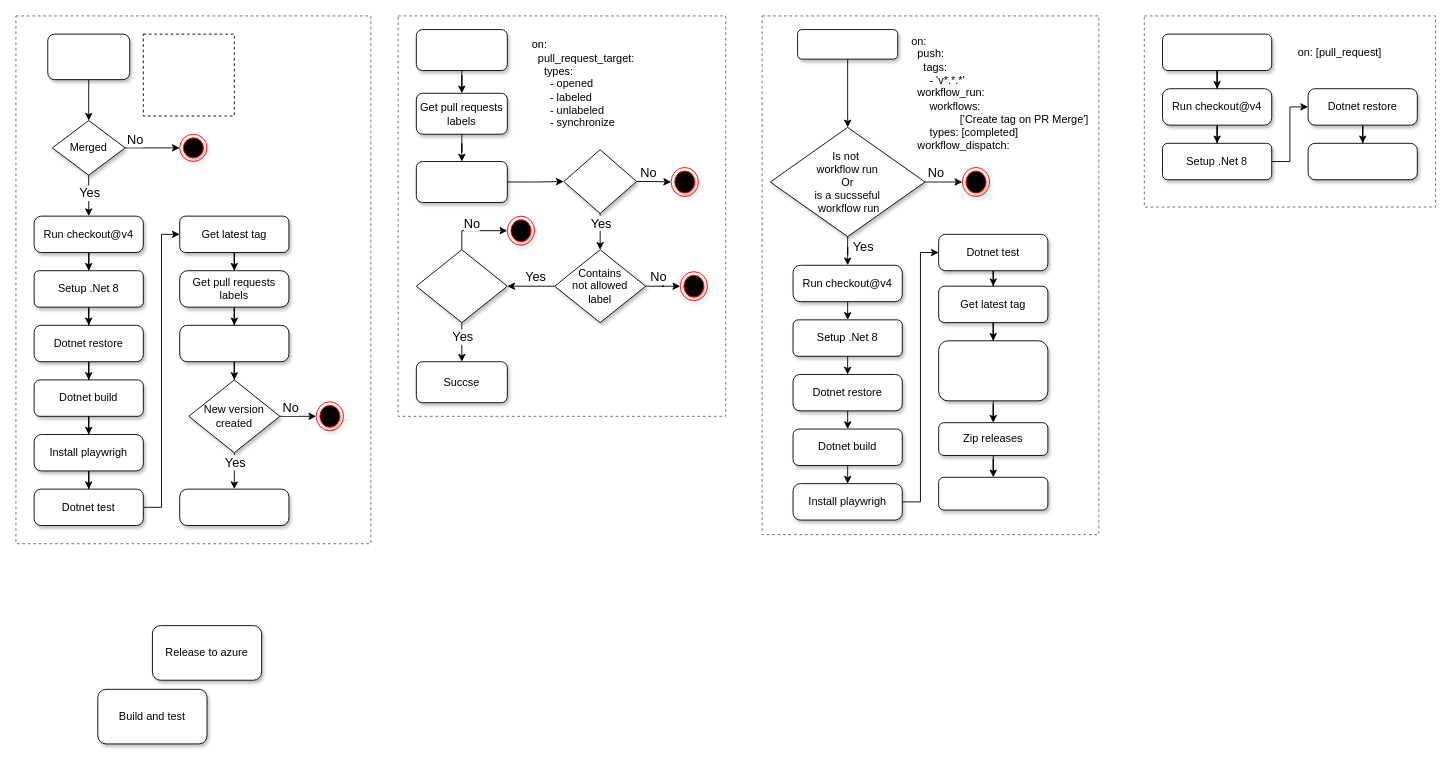
The diagram is 1451 pixels wide and 766 high, and some of its shapes have lost their labels. The centre of each missing label's shape, as x and y in pixels:
"Automatic release" goes at (848,45).
"Build with warnings as error" goes at (1363,162).
"Calculate amount of labels" goes at (462,183).
"Calculate new version based on labels" goes at (234,344).
"Check for lable (on pull request)" goes at (462,51).
"Check for warnings" goes at (1217,53).
"Contains label" goes at (600,182).
"Create and push new tag" goes at (234,508).
"Create github relese form tag and zips" goes at (993,494).
"Create relese for -Linux -Windows -Mac" goes at (993,371).
"Create tag on merge" goes at (89,58).
"Label combination is allowed" goes at (462,287).
"on: pull_request: types: [closed] branches: - main" goes at (188,74).
